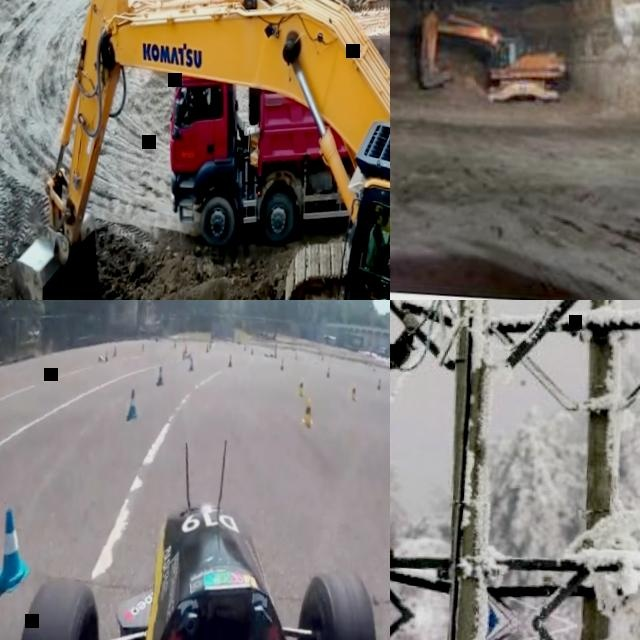NO-Safety Vest: (190, 99, 207, 118)
Person: (390, 300, 429, 562), (370, 217, 390, 300), (183, 90, 209, 125)
Safety Cone: (0, 498, 27, 587), (298, 394, 314, 430), (123, 387, 141, 419), (154, 361, 163, 394), (350, 382, 358, 402), (298, 379, 305, 397), (226, 351, 233, 368), (103, 350, 109, 366), (187, 359, 194, 372), (97, 354, 104, 362), (184, 351, 191, 359), (377, 377, 381, 391), (280, 358, 284, 371), (181, 348, 185, 360), (140, 343, 145, 352), (172, 340, 176, 350), (205, 345, 209, 354), (326, 367, 329, 378), (273, 350, 276, 359), (249, 348, 252, 355), (208, 342, 210, 349), (243, 345, 245, 352)
machinery: (0, 0, 390, 300), (157, 3, 390, 263), (415, 6, 571, 107)
vehicle: (4, 487, 390, 640)
